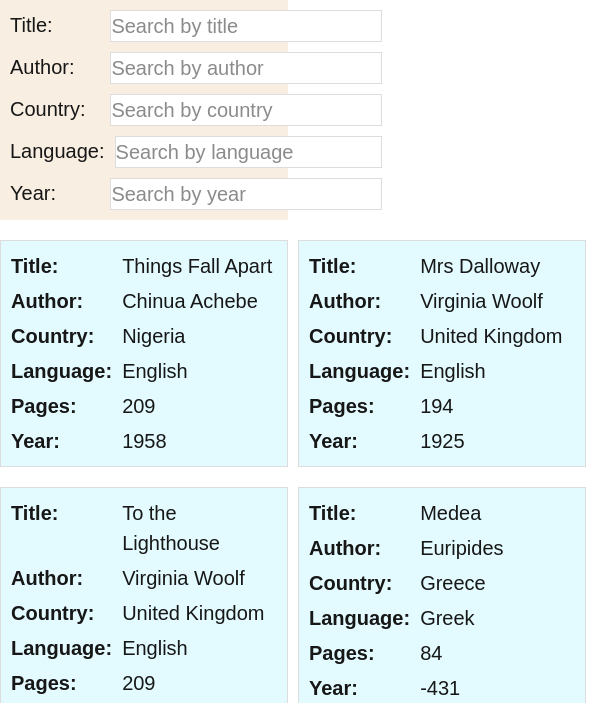
Test case: BookSearch › filtering on multiple terms › filtering on 192_ and english › should filter books on the language and year get
In the field with test id "year": (246, 194) [110,178,382,210], type "192"
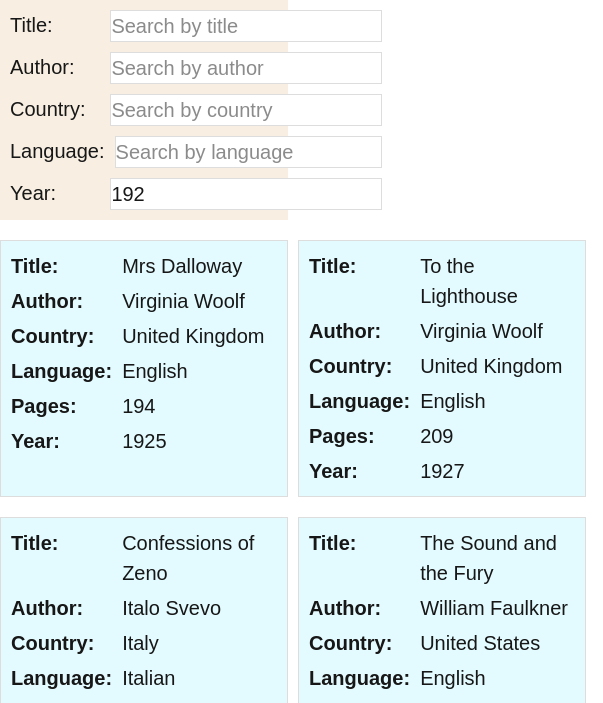
In the field with test id "language": (248, 152) [114,136,382,168], type "english"
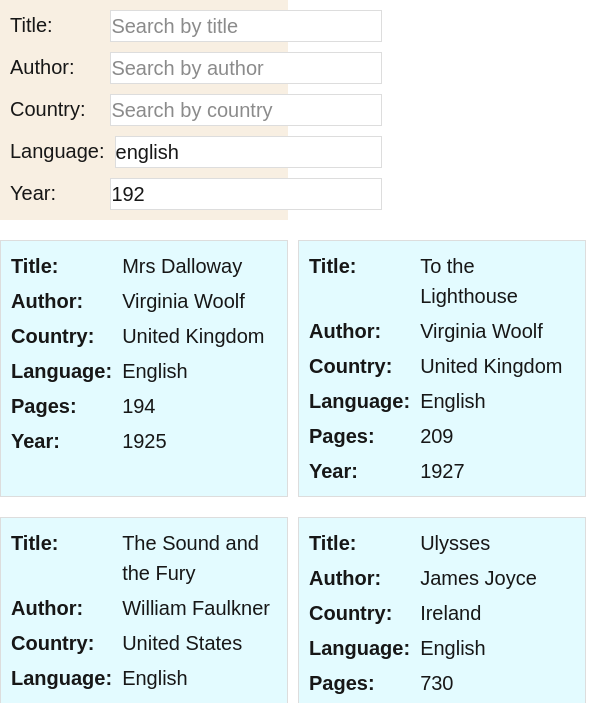
Now the text "Mrs Dalloway" is shown, box [122,255,242,277]
Now the text "To the Lighthouse" is shown, box [420,255,518,307]
Now the text "The Sound and the Fury" is shown, box [122,528,277,588]
